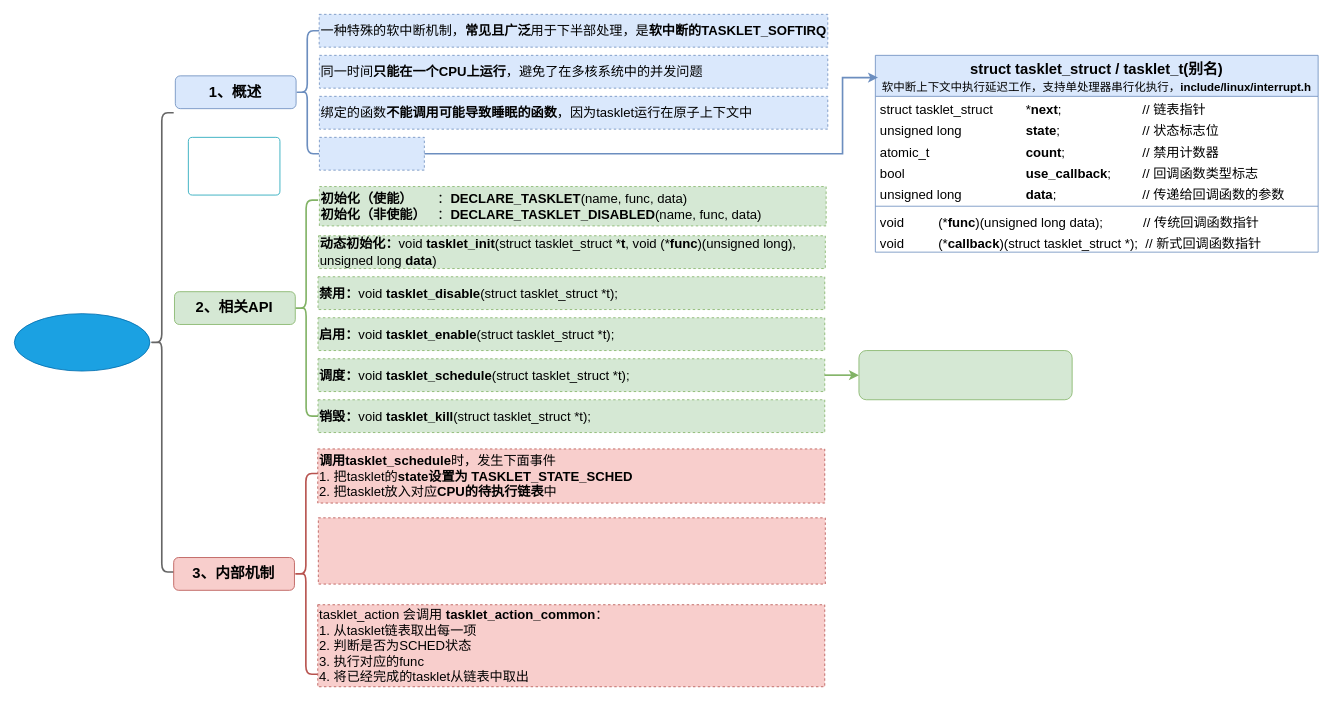
This 1333x701 diagram has some shape labels left out. The shapes that lost their labels are listed below. From the top down, each one's centre as x and y in pixels, then its label:
At (234,166): "🌻Make By Dakkk".
At (371,153): "数据结构体".
At (82,342): "tasklet".
At (965,375): "1. 通知系统需要处理，非立即执行 2. 一般在中断处理函数中调用 3. 调用多次，也只执行一次".
At (571,550): "tasklet的软中断处理流程 1. 处理硬中断 2. 处理软中断 3. 调用tasklet_action".
